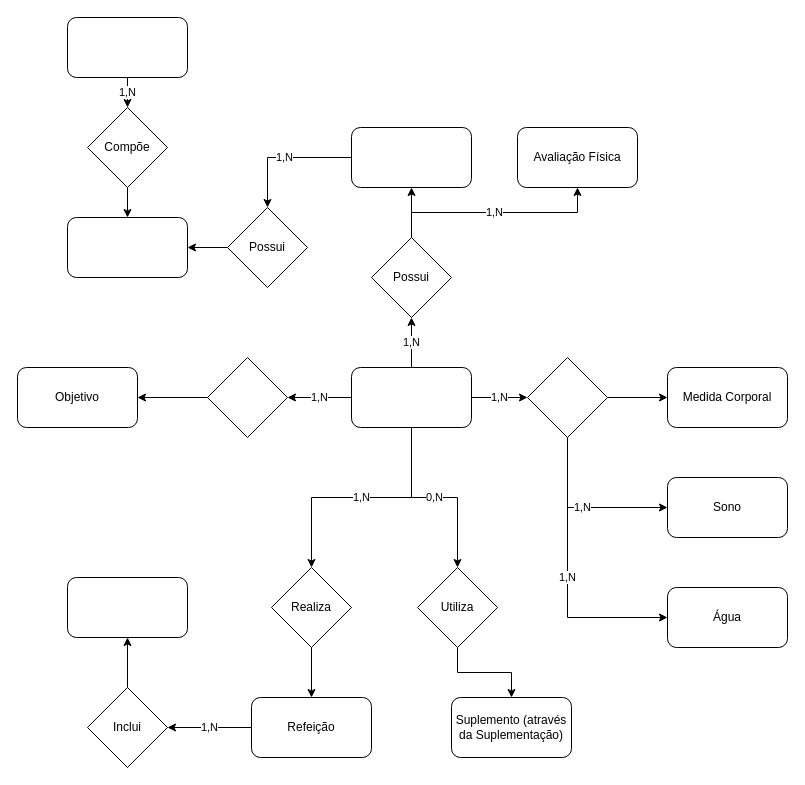
Image size: 805x785. Some labels were removed from this diagram. The shapes that lost their labels are listed below. From the top down, each one's centre as x and y in pixels, then its label:
At pixel 127 47: "Exercício".
At pixel 411 157: "Treino".
At pixel 127 247: "Série".
At pixel 247 397: "Define".
At pixel 411 397: "Usuário".
At pixel 567 397: "Registra".
At pixel 127 607: "Alimento (através de Refeição_Alimento)".
